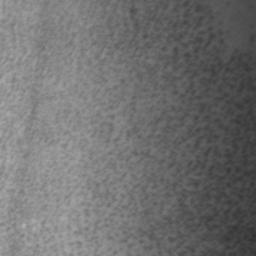Pitted surface: (0, 0, 255, 256), (204, 57, 234, 80)
